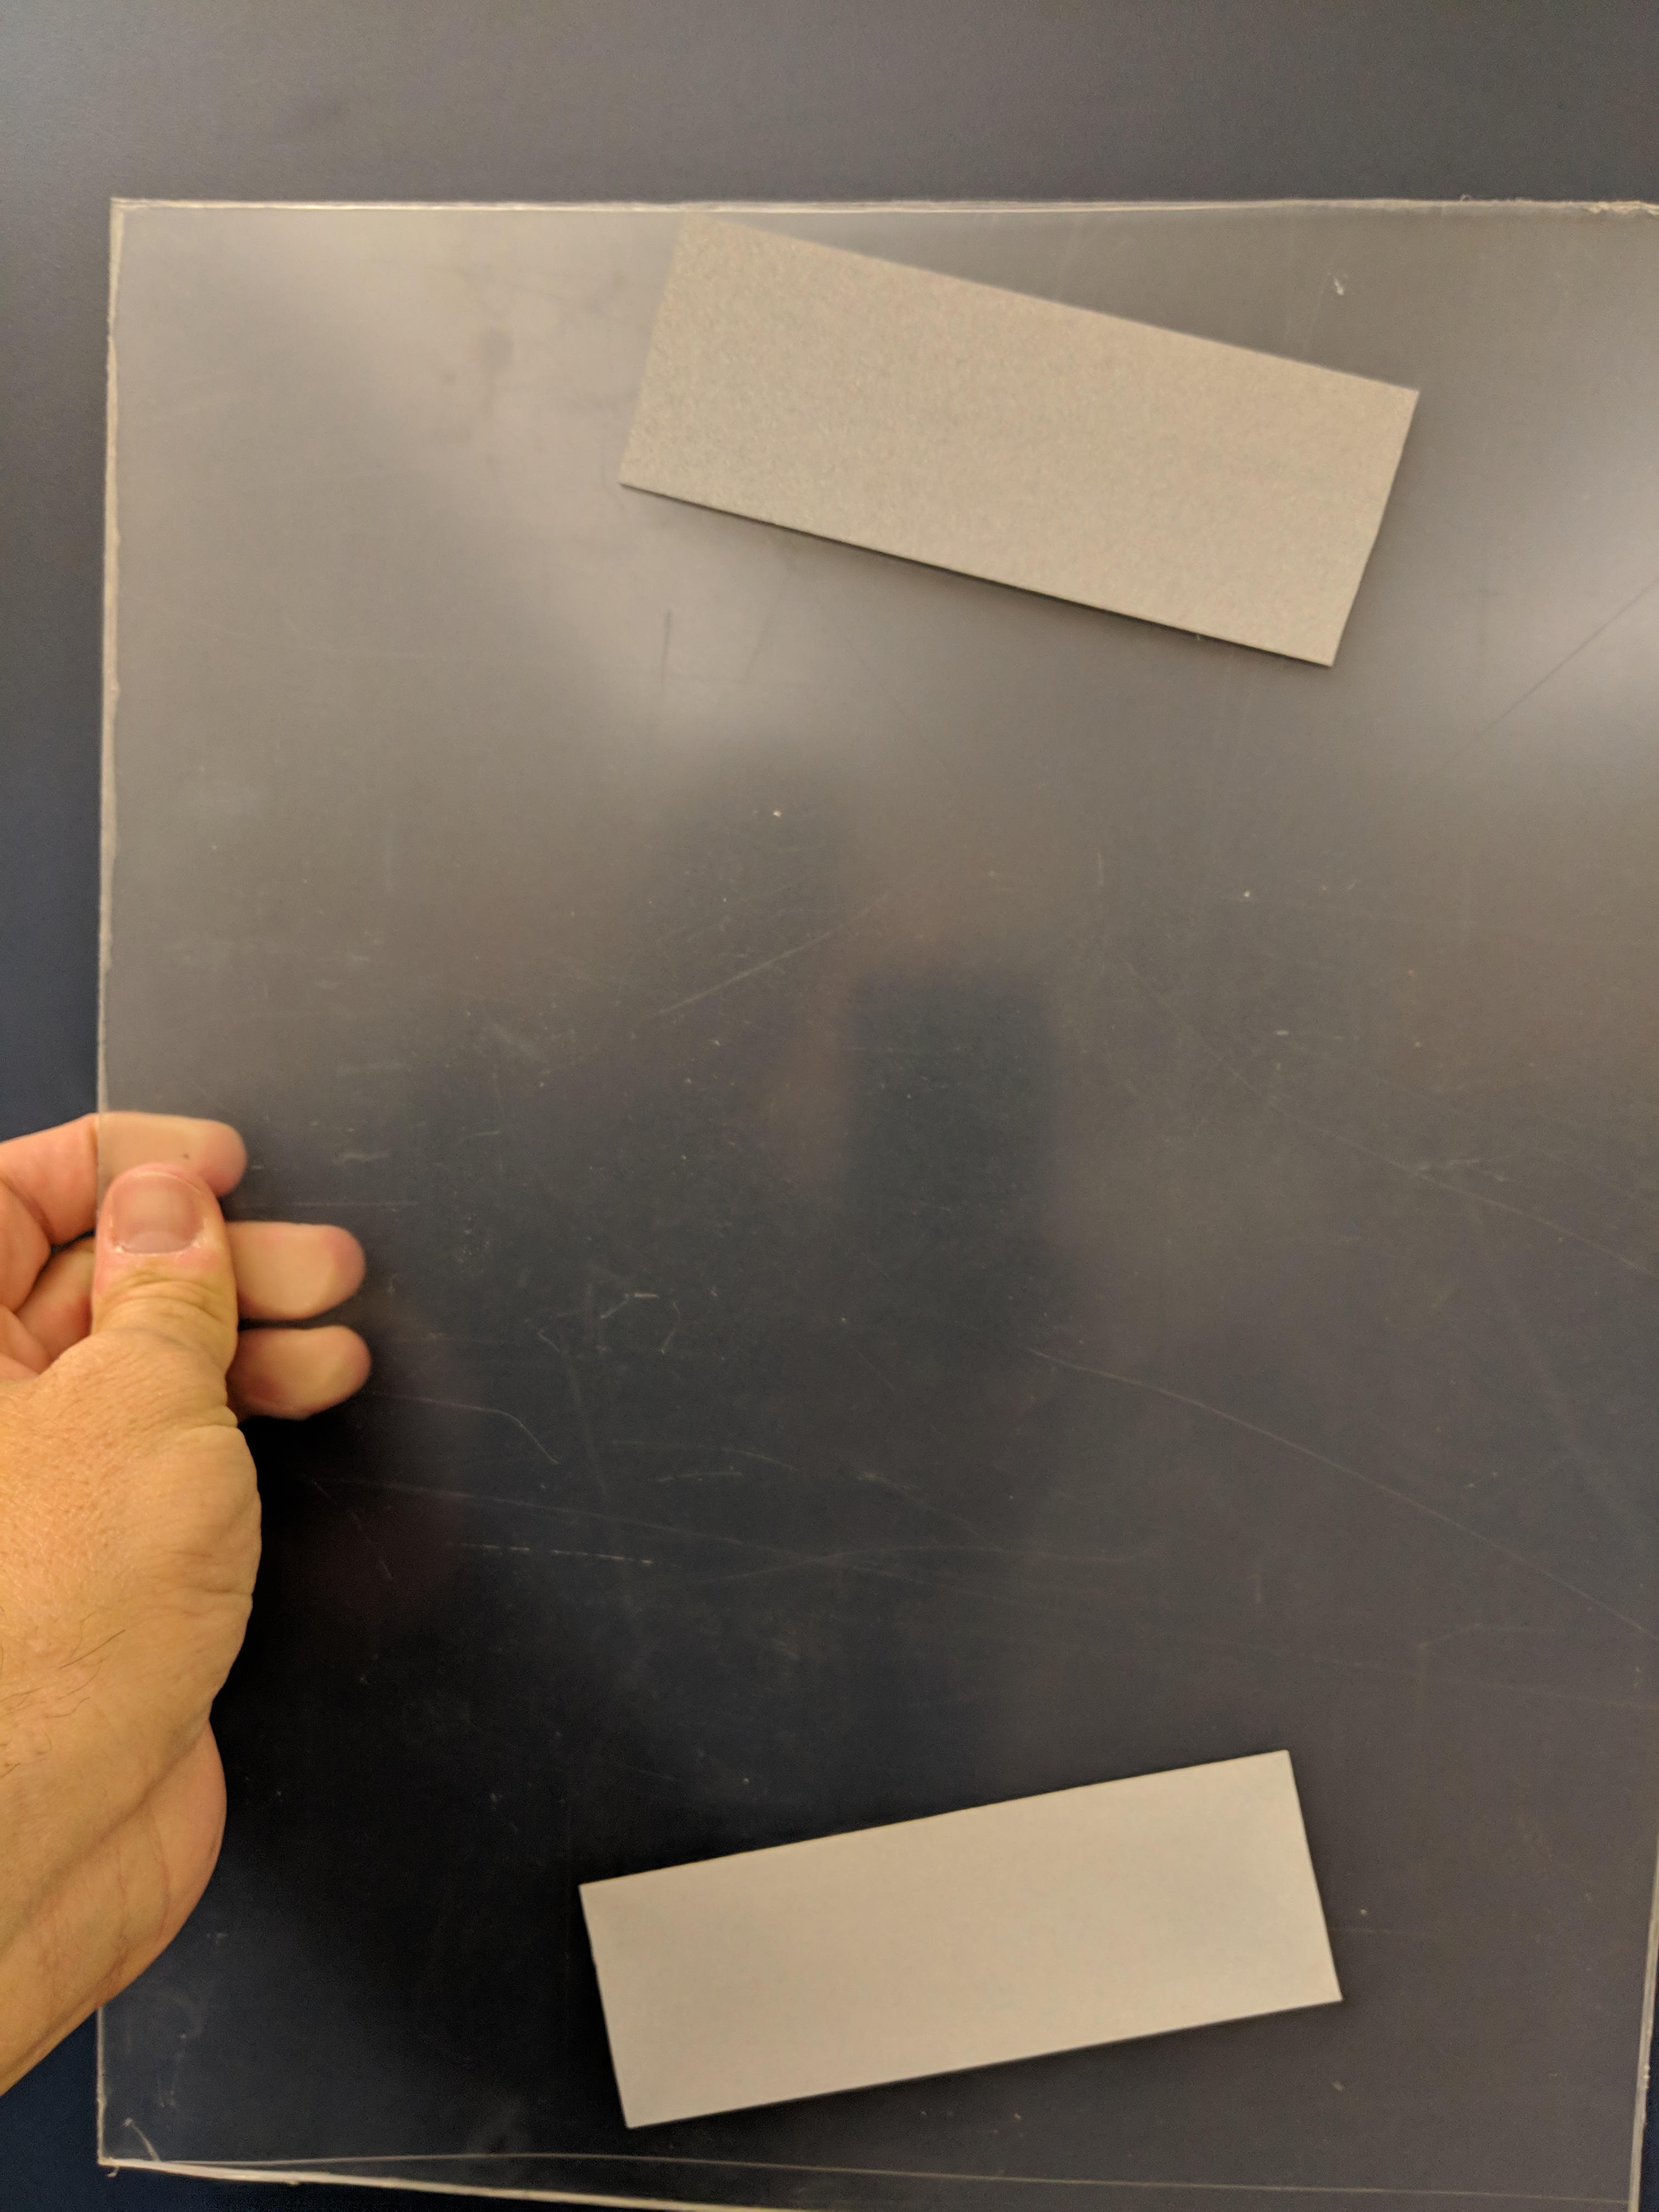vision_target: (542, 212, 1368, 2153)
